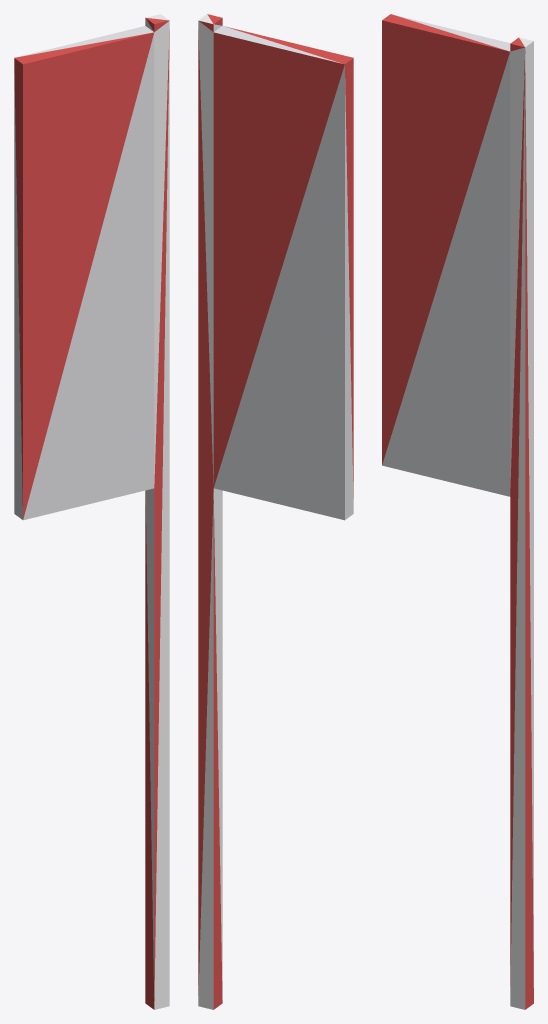
Rendered from flagRed.glb.
3 renders of one model, left to right at view 1: azimuth 30°, elevation 25°; view 2: azimuth 150°, elevation 25°; view 3: azimuth 330°, elevation 25°, orthographic. The views are drawn at different scales.
Visible parts, largest first — view 1: flagRed; view 2: flagRed; view 3: flagRed.
Part boxes in pixels (x1,y1,x2,y2): flagRed: (14,14,169,1009); flagRed: (198,14,353,1009); flagRed: (382,14,533,1009).
Size of the model in its own units: 1.9 by 12.2 by 0.2.
